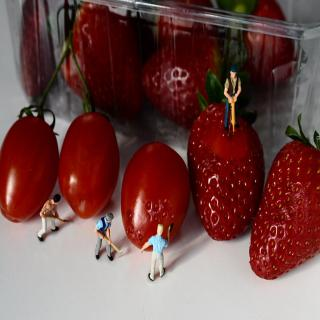tomato: (0, 28, 73, 226), (60, 54, 122, 218), (119, 141, 191, 253)
